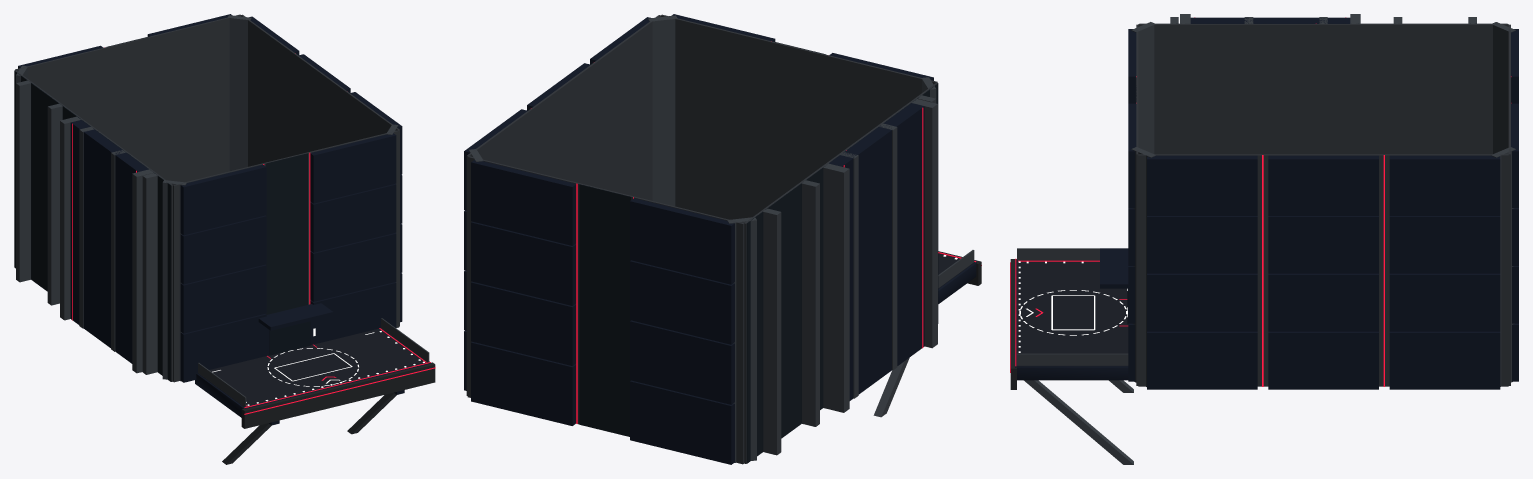
File: hq_shaft_b_r.gltf
3 renders of one model, left to right at view 1: azimuth 30°, elevation 25°; view 2: azimuth 150°, elevation 25°; view 3: azimuth 270°, elevation 25°, orthographic. The views are drawn at different scales.
Parts seen in each view (by area): view 1: hull, panel, fin, facade, stone, graphite, crimson, glass, white; view 2: hull, panel, fin, facade, crimson; view 3: hull, panel, fin, stone, crimson, graphite, white.
Boxes of the visible parts, x1,y1,x2,y2 form: hull: (18,14,431,425); panel: (14,14,399,382); fin: (16,15,429,464); facade: (14,36,307,381); stone: (198,328,427,407); graphite: (241,362,435,428); crimson: (72,47,435,414); glass: (245,321,310,401); white: (212,332,374,386); hull: (464,14,976,464); panel: (466,14,938,464); fin: (469,15,974,462); facade: (579,41,938,463); crimson: (531,41,981,423); hull: (1015,17,1518,389); panel: (1136,24,1510,386); fin: (1017,14,1515,464); stone: (1017,260,1128,366); crimson: (1010,17,1511,386); graphite: (1010,259,1016,389); white: (1019,288,1127,335).
Bounding box in the file's own units: 32.15 × 35 × 47.8.
